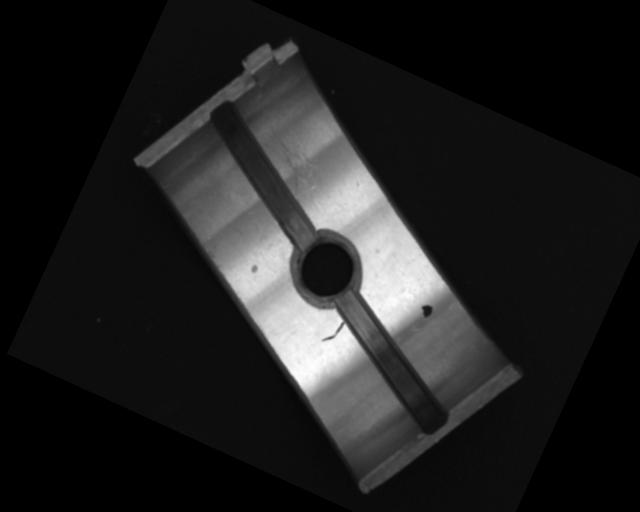blot: (416, 302, 435, 321)
bruise: (249, 262, 260, 274)
gap: (176, 97, 351, 253), (308, 291, 476, 436)
hole: (281, 226, 371, 315)
nick: (321, 315, 346, 347)
scratch: (246, 124, 330, 202)
